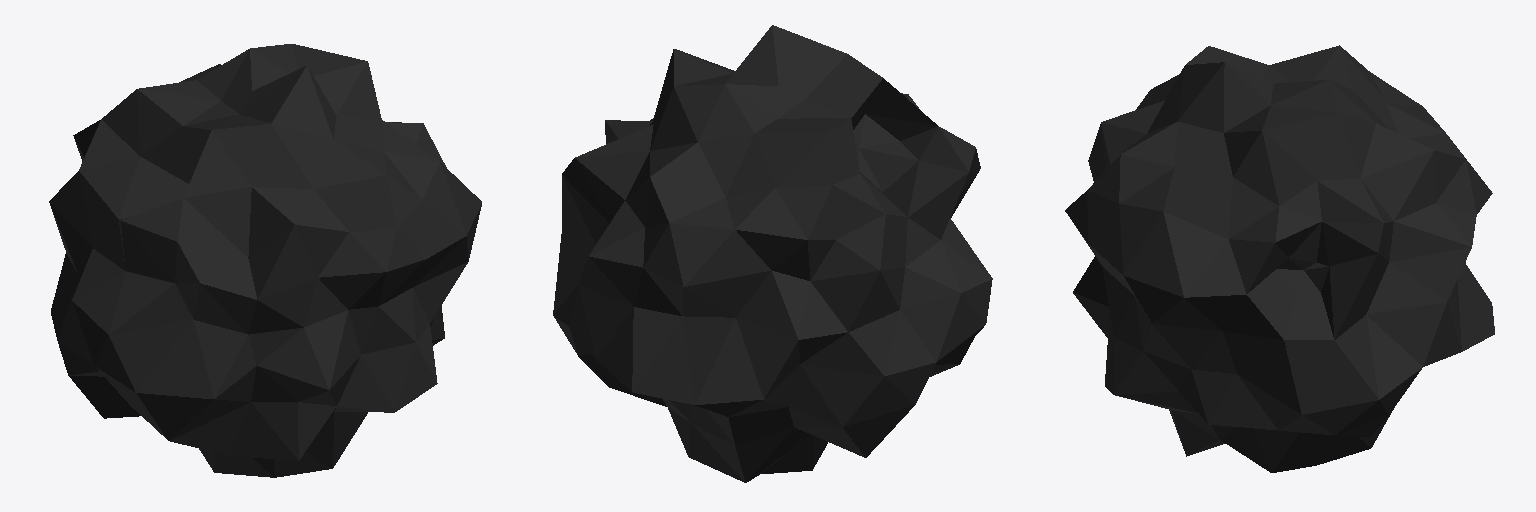
Rendered from asteroide.obj.
3 views of the same model, side by side, from view 1: azimuth 30°, elevation 25°; view 2: azimuth 150°, elevation 25°; view 3: azimuth 270°, elevation 25° (orthographic).
Visible parts, largest first — view 1: Icosphere; view 2: Icosphere; view 3: Icosphere.
Part boxes in pixels (left/top/right/bottom): Icosphere: left=49, top=44, right=481, bottom=477; Icosphere: left=553, top=25, right=992, bottom=482; Icosphere: left=1065, top=45, right=1494, bottom=472.
Size of the model in its own units: 6.55 by 6.76 by 6.43.